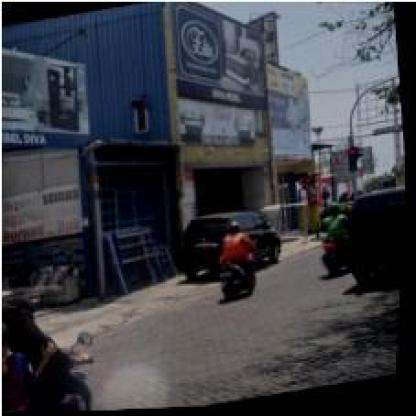red: (347, 148, 360, 175)
